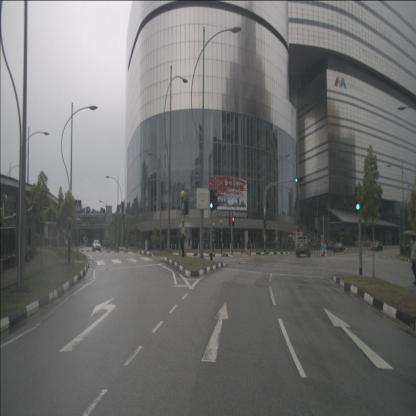human-pedestrian-adult: (402, 230, 416, 285), (240, 237, 244, 254), (188, 236, 192, 251)
vehicle-car: (296, 236, 310, 257), (333, 242, 344, 254), (372, 241, 382, 251), (92, 240, 101, 251), (326, 241, 334, 250)
